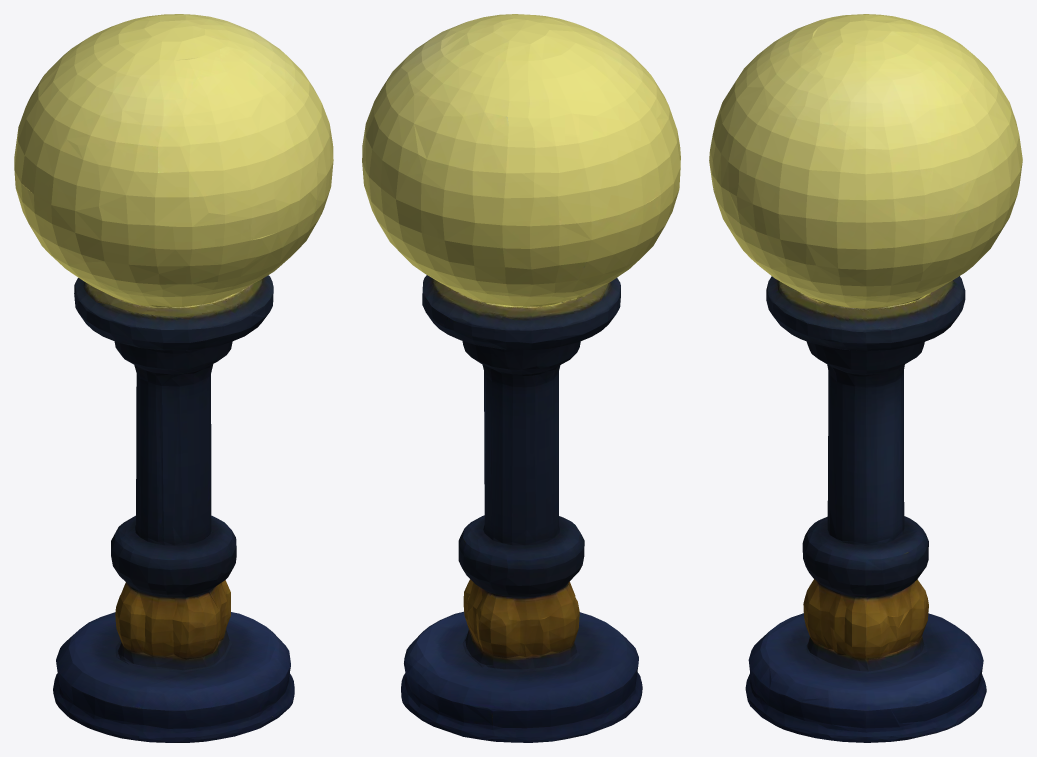
File: light_post.glb
3 views of the same model, side by side, from view 1: azimuth 30°, elevation 25°; view 2: azimuth 150°, elevation 25°; view 3: azimuth 270°, elevation 25° (orthographic).
Parts seen in each view (by area): view 1: geometry_0; view 2: geometry_0; view 3: geometry_0.
Boxes of the visible parts, left/top/right/bottom form: geometry_0: left=14, top=14, right=333, bottom=742; geometry_0: left=362, top=14, right=680, bottom=742; geometry_0: left=709, top=14, right=1022, bottom=742.
Size of the model in its own units: 0.4406 by 0.9992 by 0.4289.
Materials: 1 (1 with a texture image).
